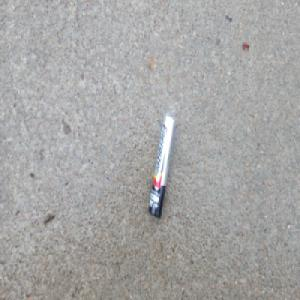Battery: (148, 112, 175, 217)
